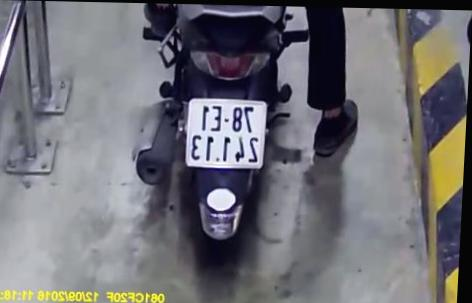License_Plate: (177, 90, 278, 180)
